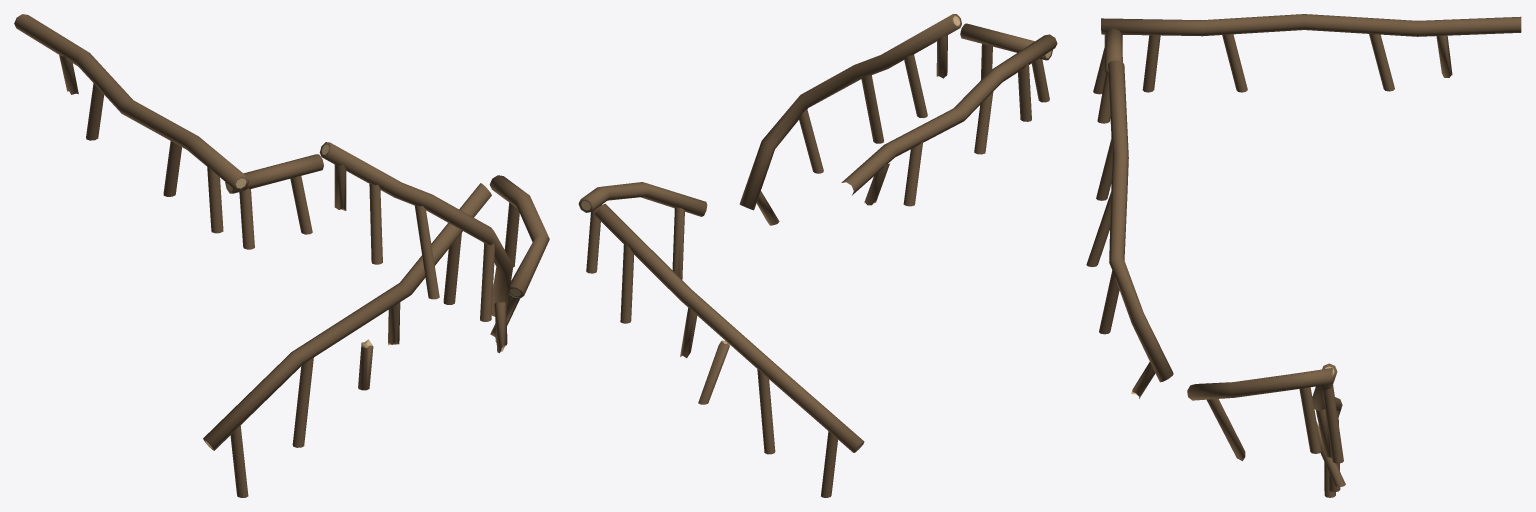
File: rpgpp_av_stairs_interior_01c_4m_handrail_01.gltf
3 renders of one model, left to right at view 1: azimuth 30°, elevation 25°; view 2: azimuth 150°, elevation 25°; view 3: azimuth 270°, elevation 25°, orthographic. The views are drawn at different scales.
Parts seen in each view (by area): view 1: rpgpp_av_stairs_interior_01c_4m_handrail_01; view 2: rpgpp_av_stairs_interior_01c_4m_handrail_01; view 3: rpgpp_av_stairs_interior_01c_4m_handrail_01.
Part boxes in pixels (left/top/right/bottom): rpgpp_av_stairs_interior_01c_4m_handrail_01: left=14, top=14, right=549, bottom=497; rpgpp_av_stairs_interior_01c_4m_handrail_01: left=578, top=14, right=1057, bottom=497; rpgpp_av_stairs_interior_01c_4m_handrail_01: left=1086, top=14, right=1521, bottom=497.
Size of the model in its own units: 0.0447 by 0.0465 by 0.0433.
Materials: 1 (1 with a texture image).
